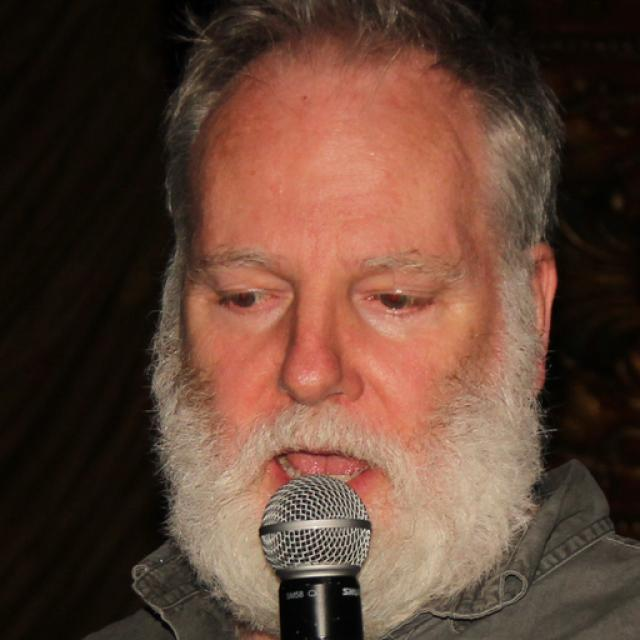sad: (166, 69, 536, 635)
